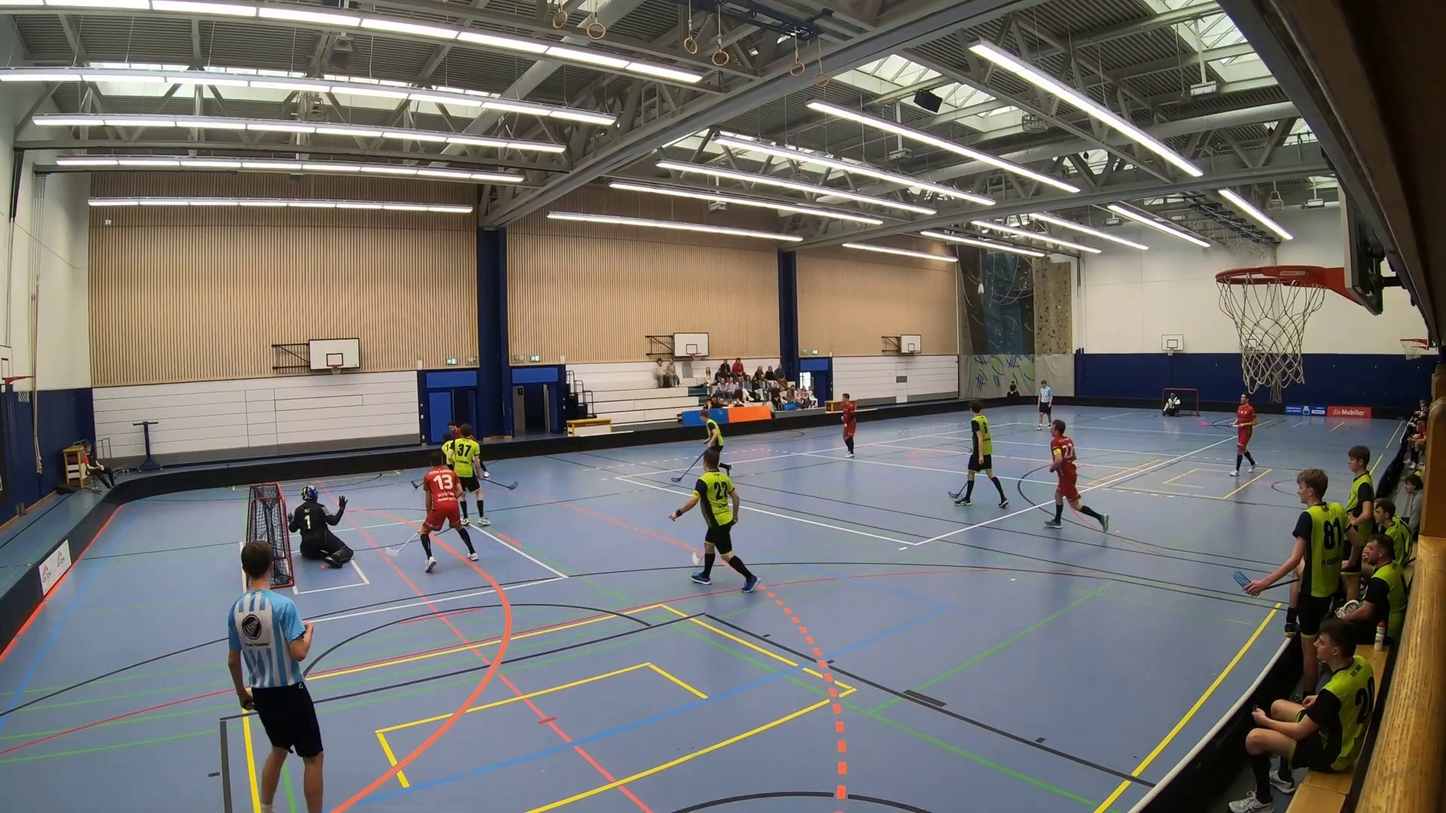Schiri: (210, 533, 332, 813), (1023, 371, 1059, 428)
goalkeeper: (279, 481, 365, 575), (1162, 391, 1184, 419)
player: (662, 447, 783, 600), (383, 449, 481, 575), (1037, 413, 1126, 548), (939, 380, 1014, 527), (1194, 383, 1279, 486), (453, 428, 531, 530), (661, 401, 741, 480), (820, 385, 870, 464), (437, 431, 457, 469), (448, 419, 476, 440)
